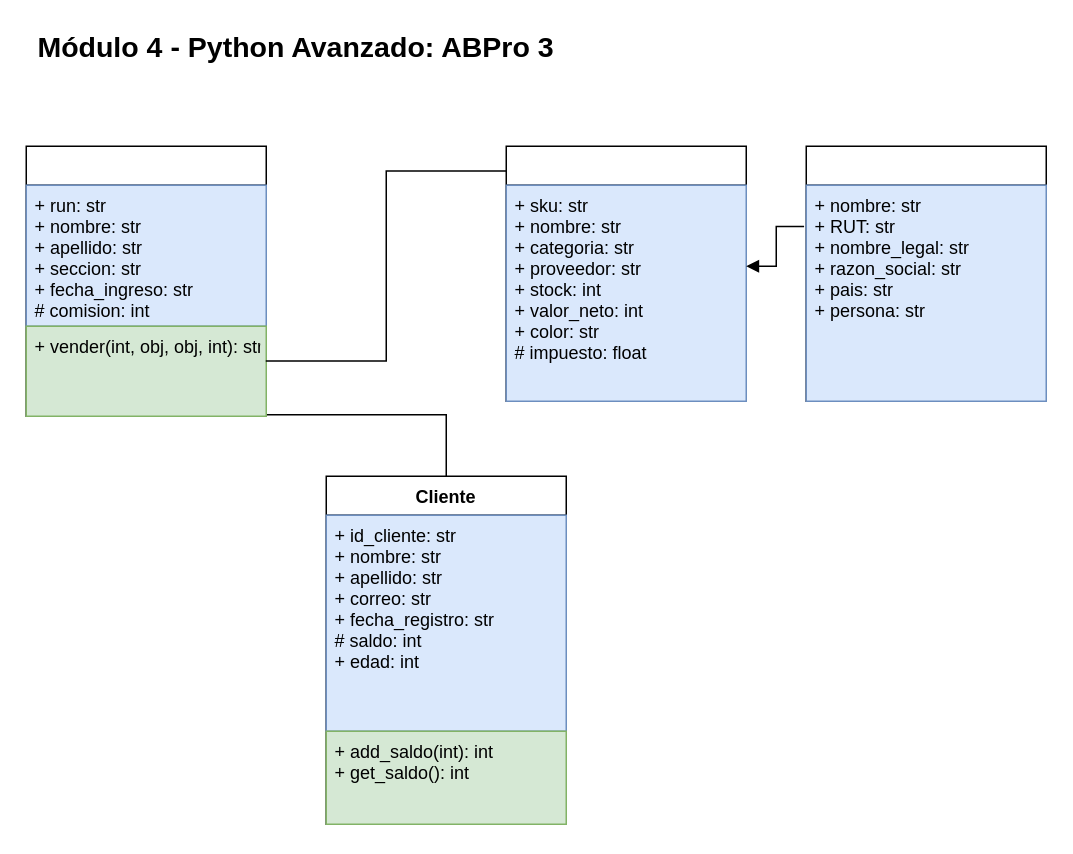
Some shapes in this 1073 by 854 pixel diagram are drawn without their labels. Each missing label, with the box of its shape:
Producto: (505, 145, 746, 401)
Proveedor: (805, 145, 1046, 401)
Vendedor: (25, 145, 266, 416)
